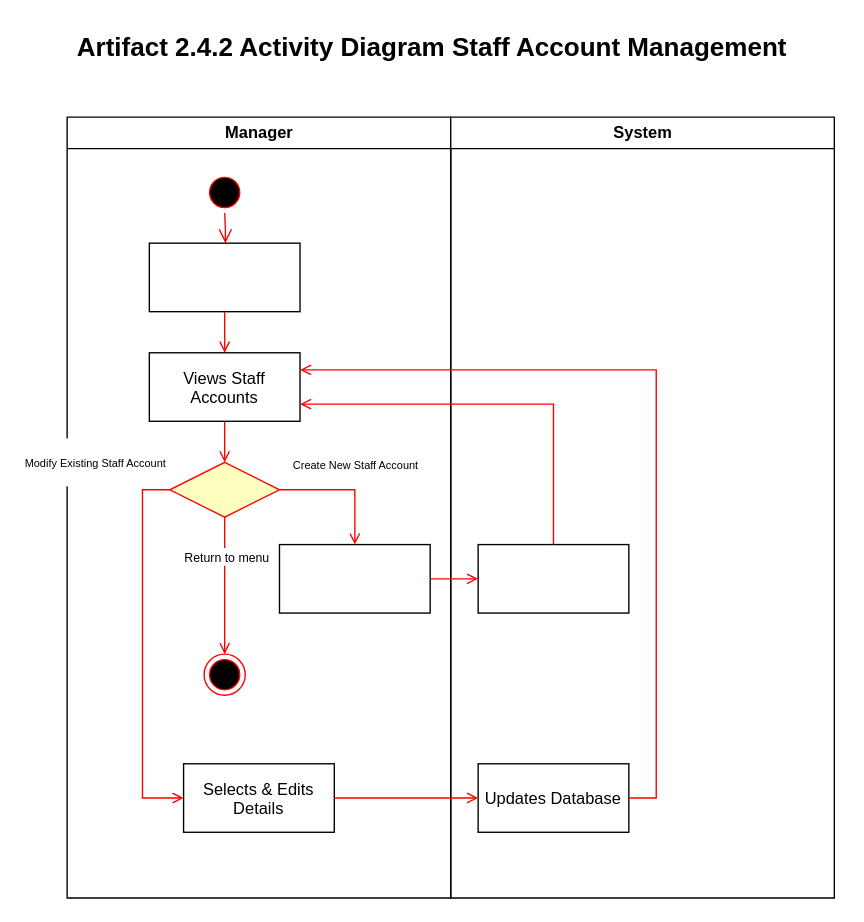
Image size: 864x922. Some labels were removed from this diagram. The centre of each missing label's shape, as x and y in pixels:
"Inputs Details" goes at [354,578].
"Opens Staff Account Management" goes at [224,277].
"Saves Details" goes at [553,578].
